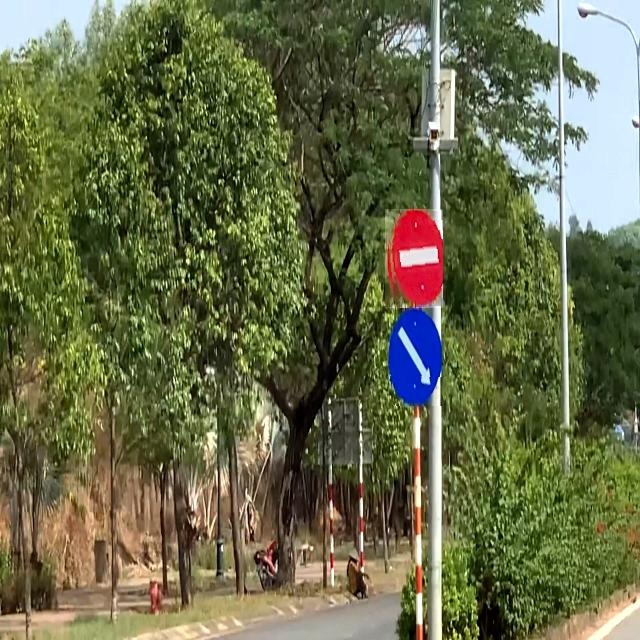bien_cam: (385, 209, 443, 309), (388, 308, 446, 406)
